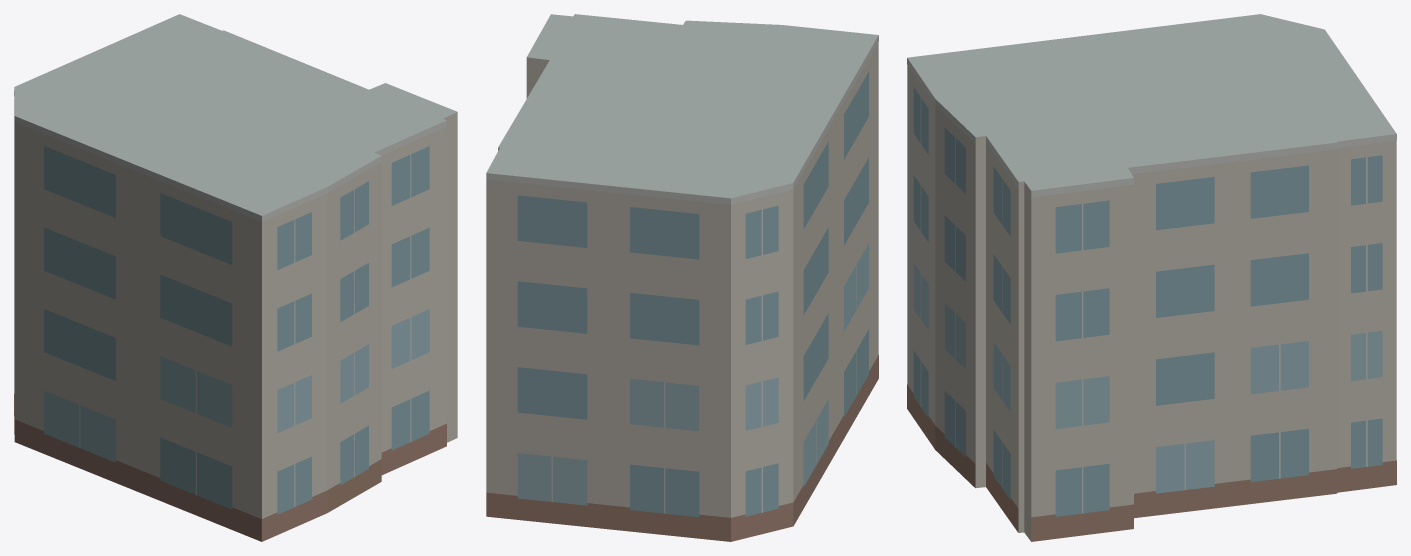
Rendered from survey-upis-32741748.glb.
3 views of the same model, side by side, from view 1: azimuth 30°, elevation 25°; view 2: azimuth 150°, elevation 25°; view 3: azimuth 270°, elevation 25° (orthographic). The views are drawn at different scales.
Visible parts, largest first — view 1: survey-upis-32741748.tmp; view 2: survey-upis-32741748.tmp; view 3: survey-upis-32741748.tmp.
Part boxes in pixels (x1,y1,x2,y2): survey-upis-32741748.tmp: (14, 14, 457, 541); survey-upis-32741748.tmp: (486, 14, 878, 541); survey-upis-32741748.tmp: (907, 14, 1396, 541).
Size of the model in its own units: 13.78 by 12.75 by 16.13.
